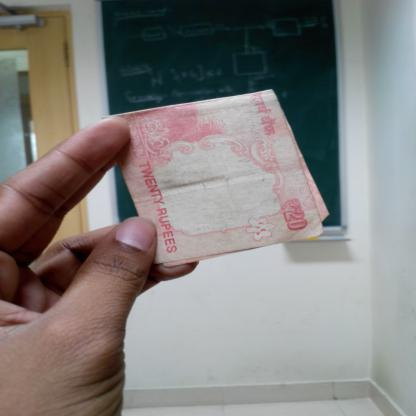Old20Back: (115, 92, 319, 253)
